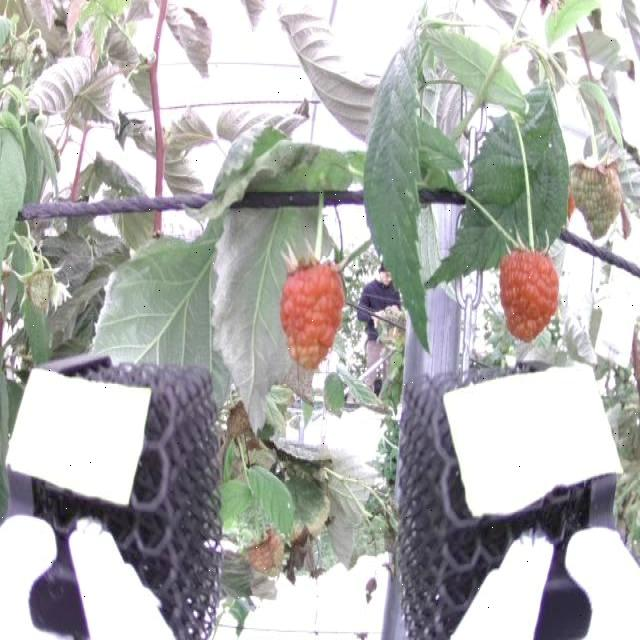Riped berries: (280, 250, 346, 365), (500, 234, 566, 338)
